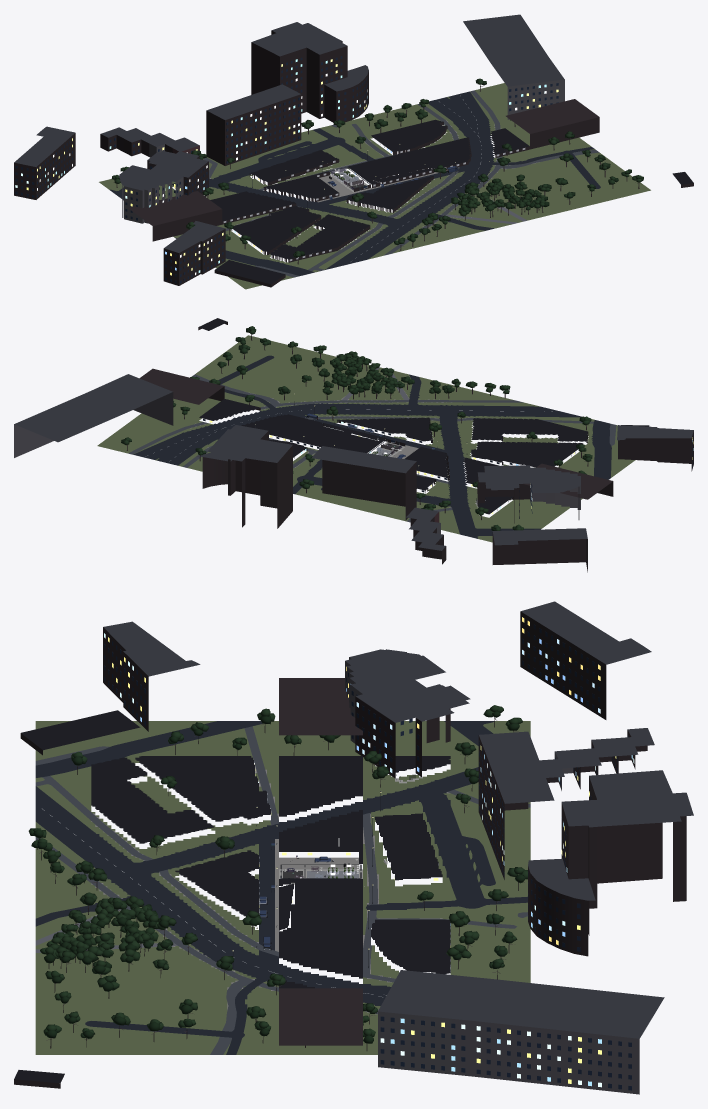
File: level.glb
The picture shows the model from 3 angles, top to bottom: view 1: azimuth 30°, elevation 25°; view 2: azimuth 150°, elevation 25°; view 3: azimuth 270°, elevation 25°; orthographic projection. The views are drawn at different scales.
Parts seen in each view (by area): view 1: static, blocks_caps, canopies, far_canopies, far_caps, far_windows; view 2: static, blocks_caps, canopies, far_canopies; view 3: static, blocks_caps, canopies, far_canopies, far_caps, far_windows.
Boxes of the visible parts, bbox=[...] form: static: bbox=[14, 14, 693, 289]; blocks_caps: bbox=[172, 119, 529, 259]; canopies: bbox=[202, 109, 568, 233]; far_canopies: bbox=[111, 78, 643, 257]; far_caps: bbox=[215, 172, 693, 284]; far_windows: bbox=[15, 59, 558, 275]; static: bbox=[14, 322, 693, 572]; blocks_caps: bbox=[199, 399, 587, 514]; canopies: bbox=[245, 354, 563, 487]; far_canopies: bbox=[121, 326, 592, 530]; static: bbox=[14, 601, 693, 1094]; blocks_caps: bbox=[91, 756, 450, 988]; canopies: bbox=[71, 737, 471, 991]; far_canopies: bbox=[28, 705, 527, 1043]; far_caps: bbox=[14, 710, 140, 1083]; far_windows: bbox=[104, 617, 634, 1087].
Bounding box in the file's own units: 259 × 30 × 170.
